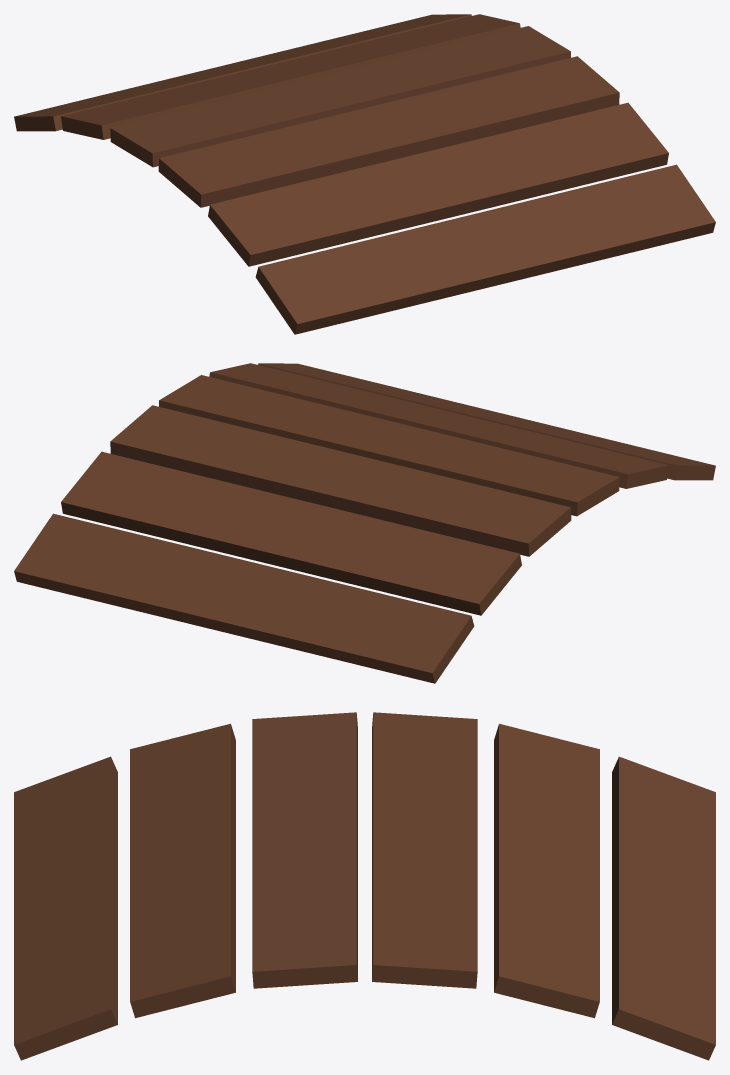
Rendered from Bridge_1.fbx.
3 views of the same model, one above another, from view 1: azimuth 30°, elevation 25°; view 2: azimuth 150°, elevation 25°; view 3: azimuth 270°, elevation 25° (orthographic). The views are drawn at different scales.
Parts seen in each view (by area): view 1: Bridge_1; view 2: Bridge_1; view 3: Bridge_1.
Boxes of the visible parts, x1,y1,x2,y2 form: Bridge_1: (14, 14, 715, 334); Bridge_1: (14, 363, 715, 683); Bridge_1: (14, 712, 715, 1060).
Bounding box in the file's own units: 0.8 × 0.1412 × 0.9391.
